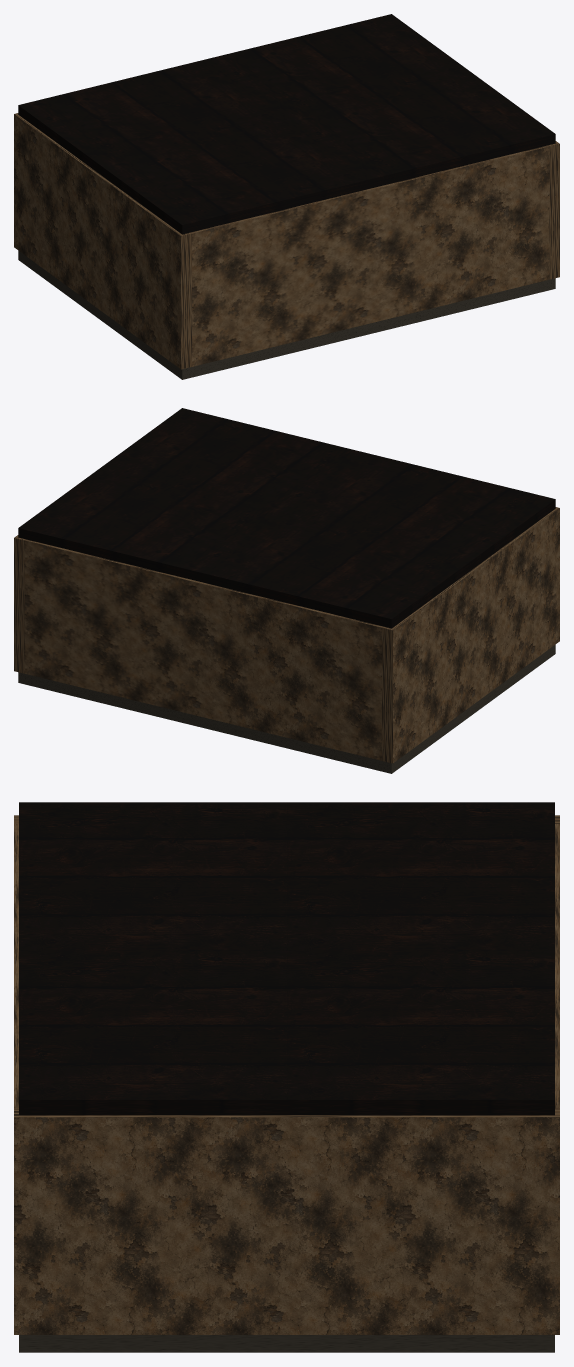
Rendered from enclosed-D-v6.glb.
3 renders of one model, top to bottom at view 1: azimuth 30°, elevation 25°; view 2: azimuth 150°, elevation 25°; view 3: azimuth 270°, elevation 25°, orthographic. The views are drawn at different scales.
Parts seen in each view (by area): view 1: 密閉調查區_D; view 2: 密閉調查區_D; view 3: 密閉調查區_D.
Part boxes in pixels (box(x1,y1,x2,y2)): 密閉調查區_D: box(14, 14, 559, 379); 密閉調查區_D: box(14, 408, 559, 773); 密閉調查區_D: box(14, 802, 559, 1352).
Bounding box in the file's own units: 8.48 × 3.31 × 6.48.
17 materials, 12 textured.
